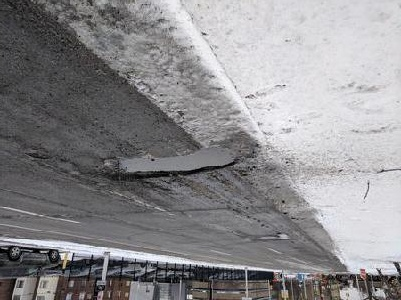pothole: (100, 147, 239, 180)
